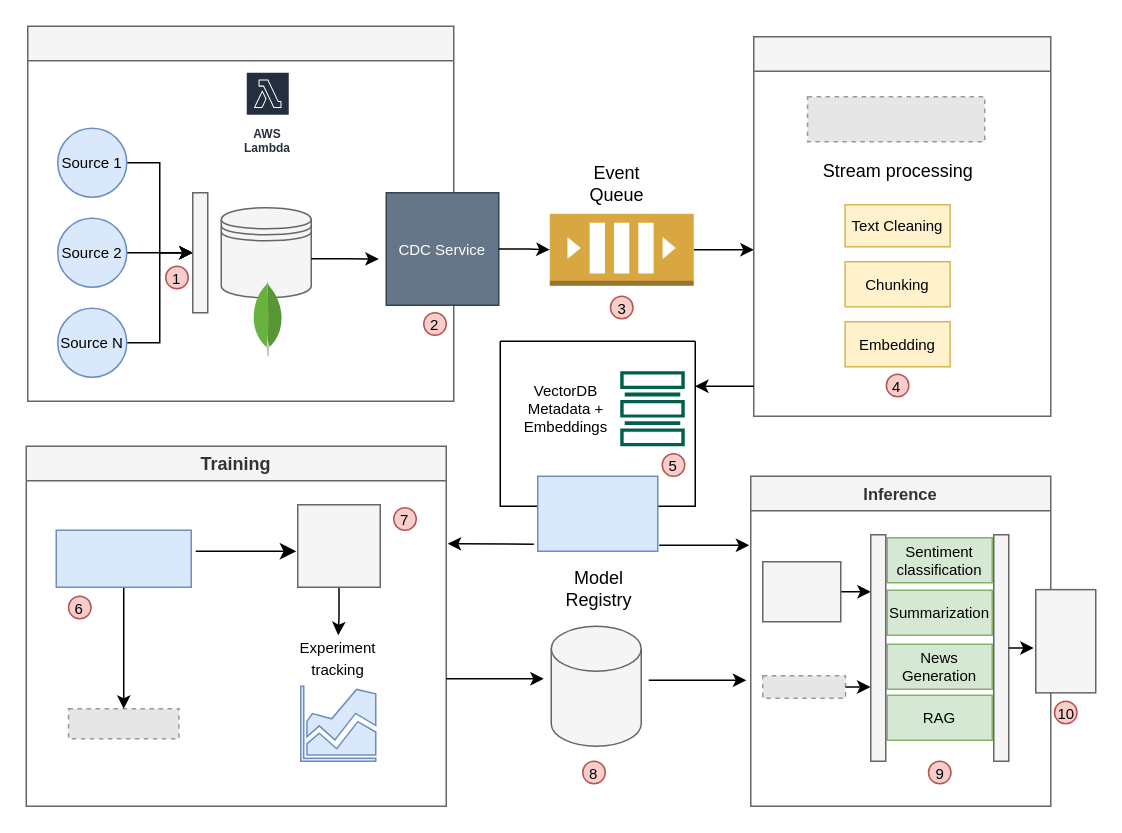
Some shapes in this 1122 by 833 pixel diagram are drawn without their labels. Grey dashed boxes stand in for pictures. The shapes that lost their labels are listed below. From the top down, each one's box as (x1, y1, x2, y2) in pixels, then its label:
(26, 25, 454, 401): Data Extraction
(752, 35, 1051, 416): Feature Pipeline
(220, 206, 311, 298): MonbgoDB
(536, 475, 658, 551): VectorDb Retrieval client
(55, 529, 191, 587): Synthetic training data generation
(296, 503, 380, 587): LLM Fine Tuning
(761, 560, 841, 622): Finetuned Model
(1034, 588, 1096, 693): Rest API
